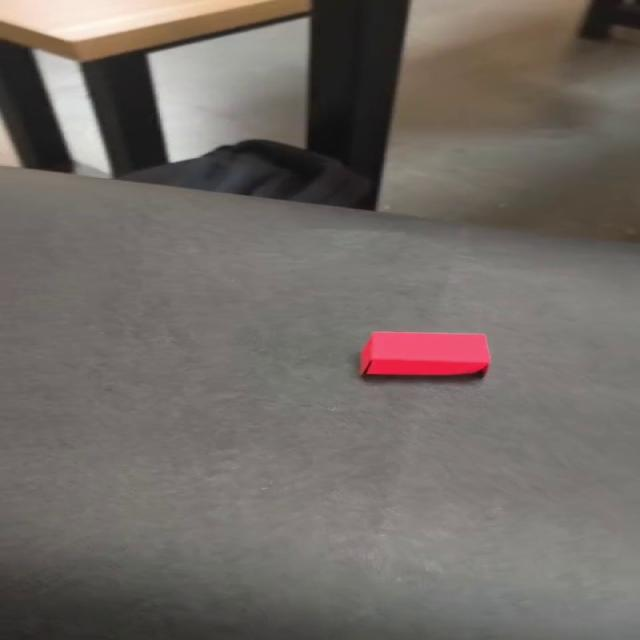red block: (357, 330, 491, 377)
